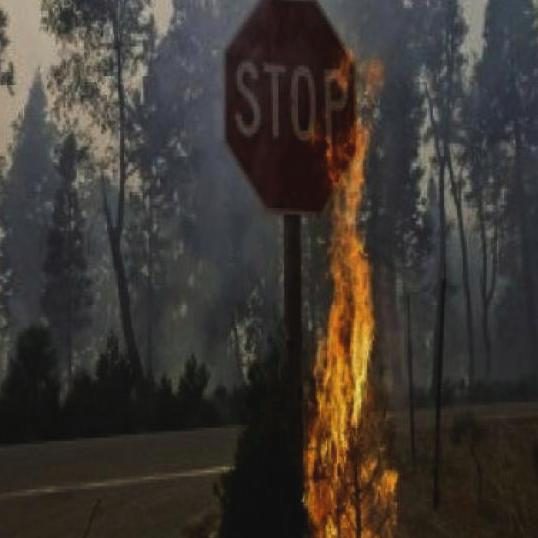stop_sign: (225, 1, 360, 216)
